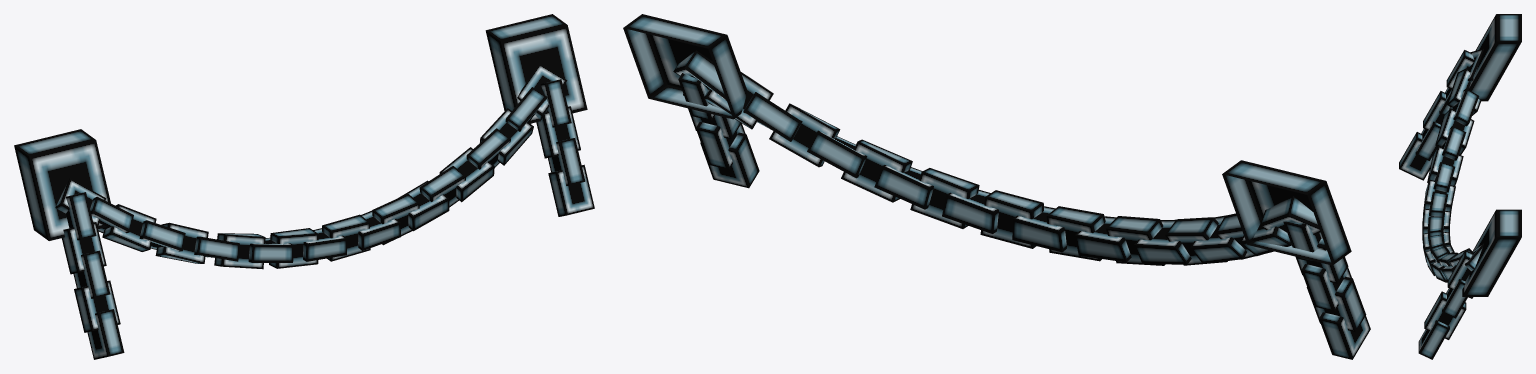
File: deco_chainWallDiagonal.FBX
The picture shows the model from 3 angles, left to right: view 1: azimuth 30°, elevation 25°; view 2: azimuth 150°, elevation 25°; view 3: azimuth 270°, elevation 25°; orthographic projection. The views are drawn at different scales.
Parts seen in each view (by area): view 1: deco_chainWallDiagonal; view 2: deco_chainWallDiagonal; view 3: deco_chainWallDiagonal.
Part boxes in pixels (box(x1,y1,x2,y2)): deco_chainWallDiagonal: box(14, 14, 594, 359); deco_chainWallDiagonal: box(623, 14, 1370, 359); deco_chainWallDiagonal: box(1399, 14, 1521, 359).
Bounding box in the file's own units: 3.44 × 1.08 × 0.7985.
1 material, 1 textured.
